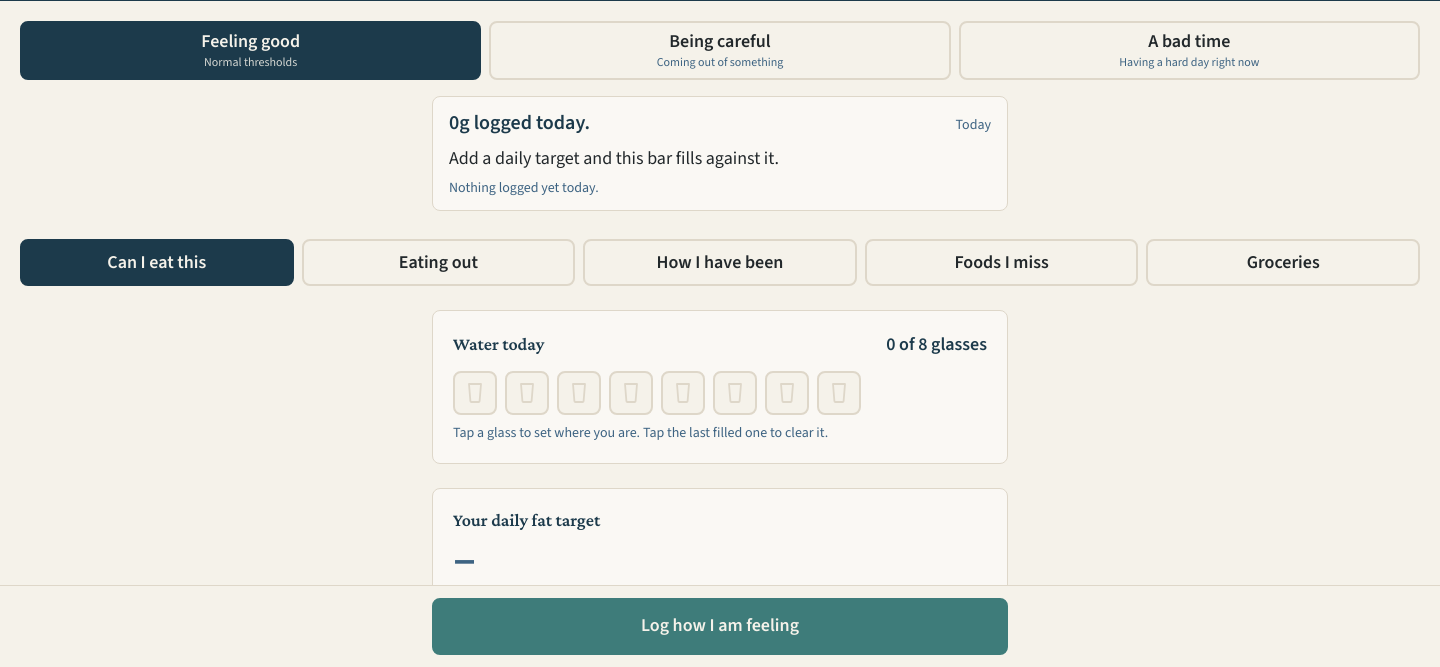
it: appointment prep, spec 5.6 › carries the disclaimer on the page itself
(page scrolled)
Click the tab "How I have been" at point(720, 262), box [583,239,857,286]
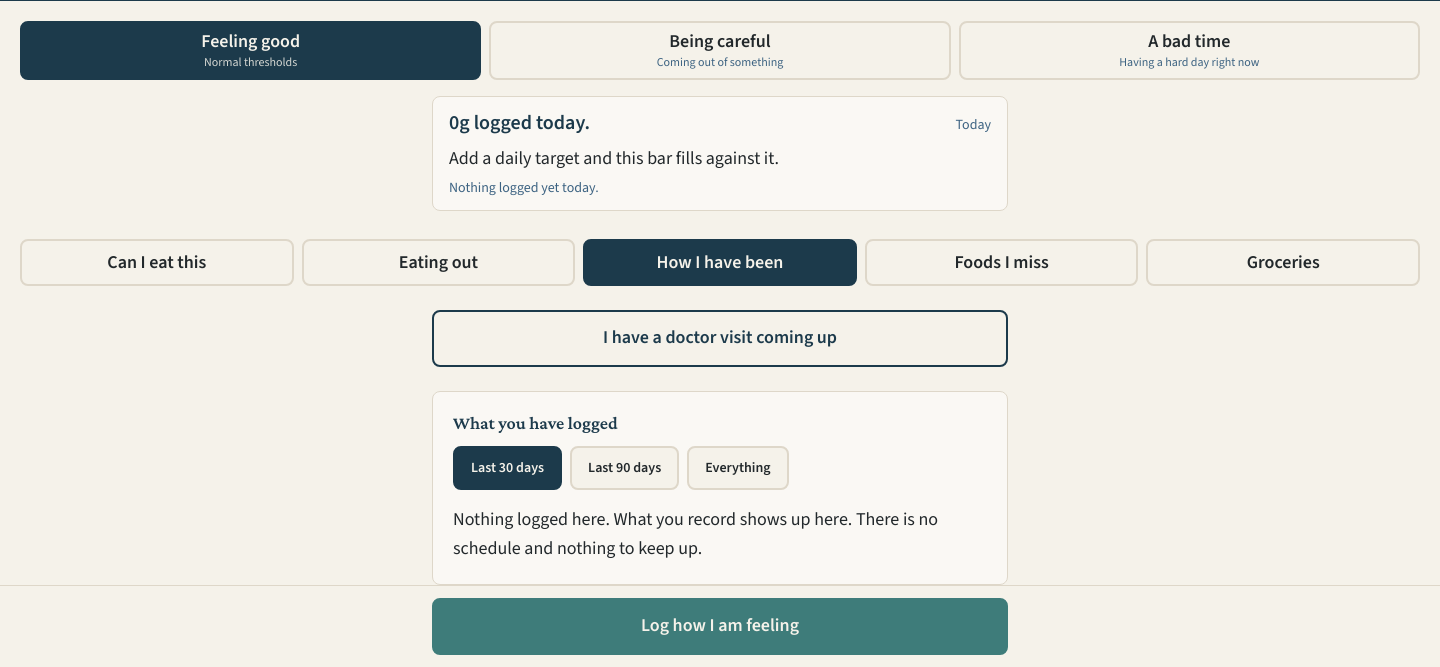
Click the button "I have a doctor visit coming up" at point(720, 338), box [432,310,1008,367]
(page scrolled)
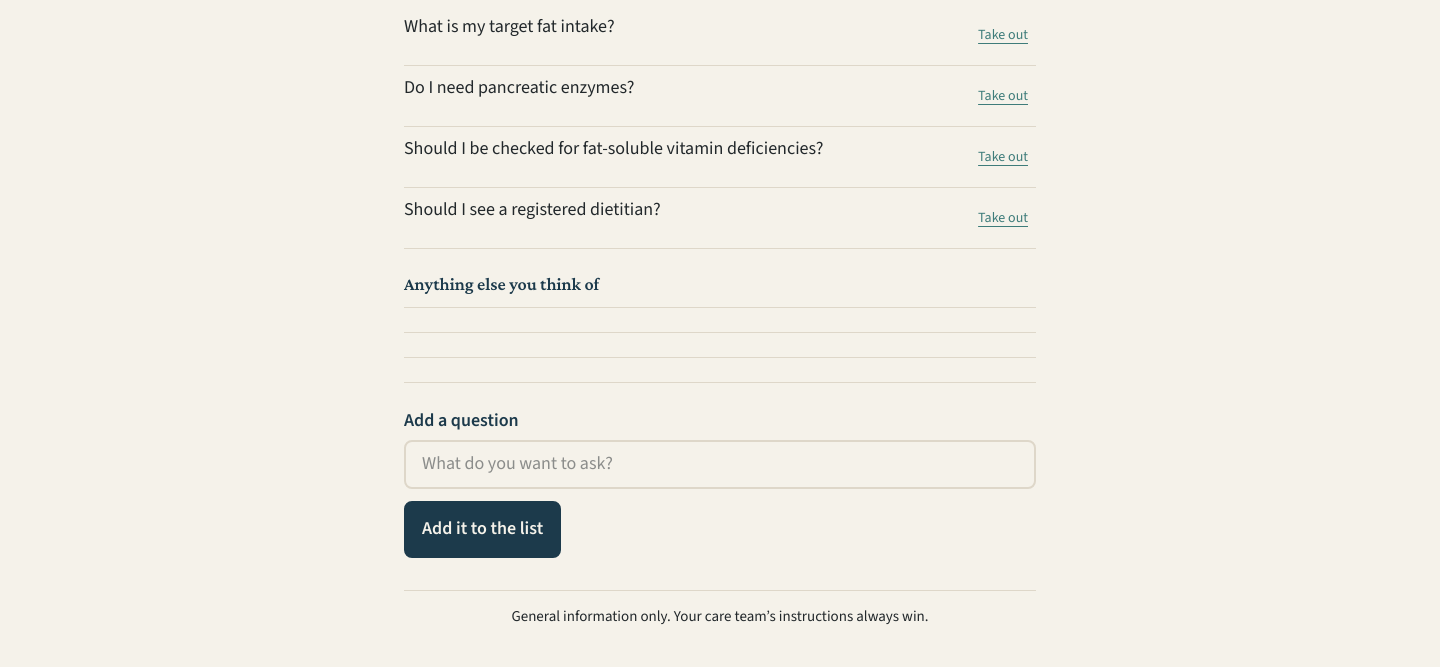
Now the text "General information only" is shown, box [512,606,929,627]
